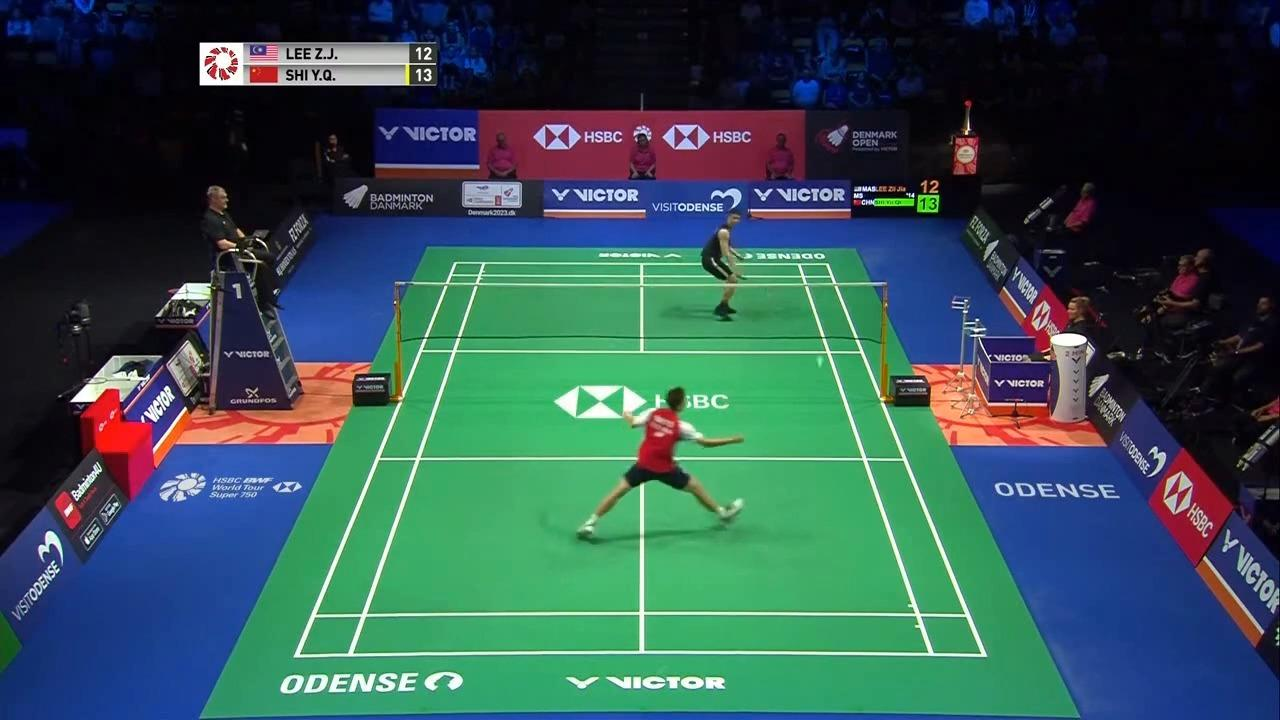shuttle: (815, 356, 828, 370)
